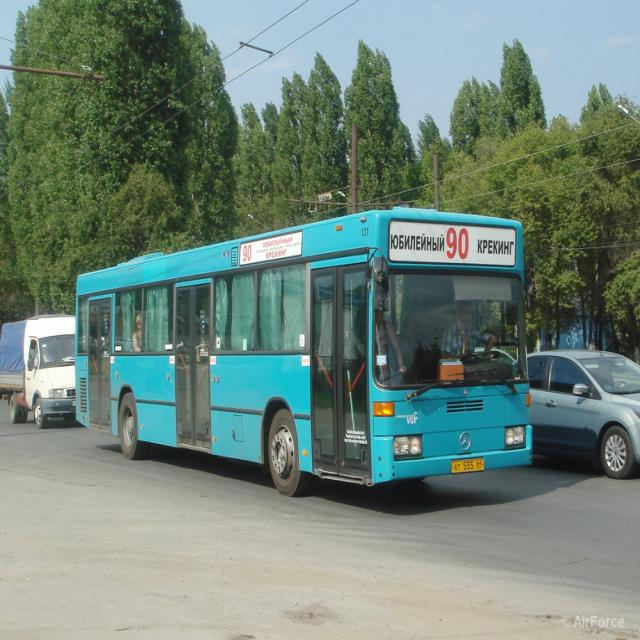number-of-bus: (447, 225, 471, 264), (243, 244, 254, 264)
